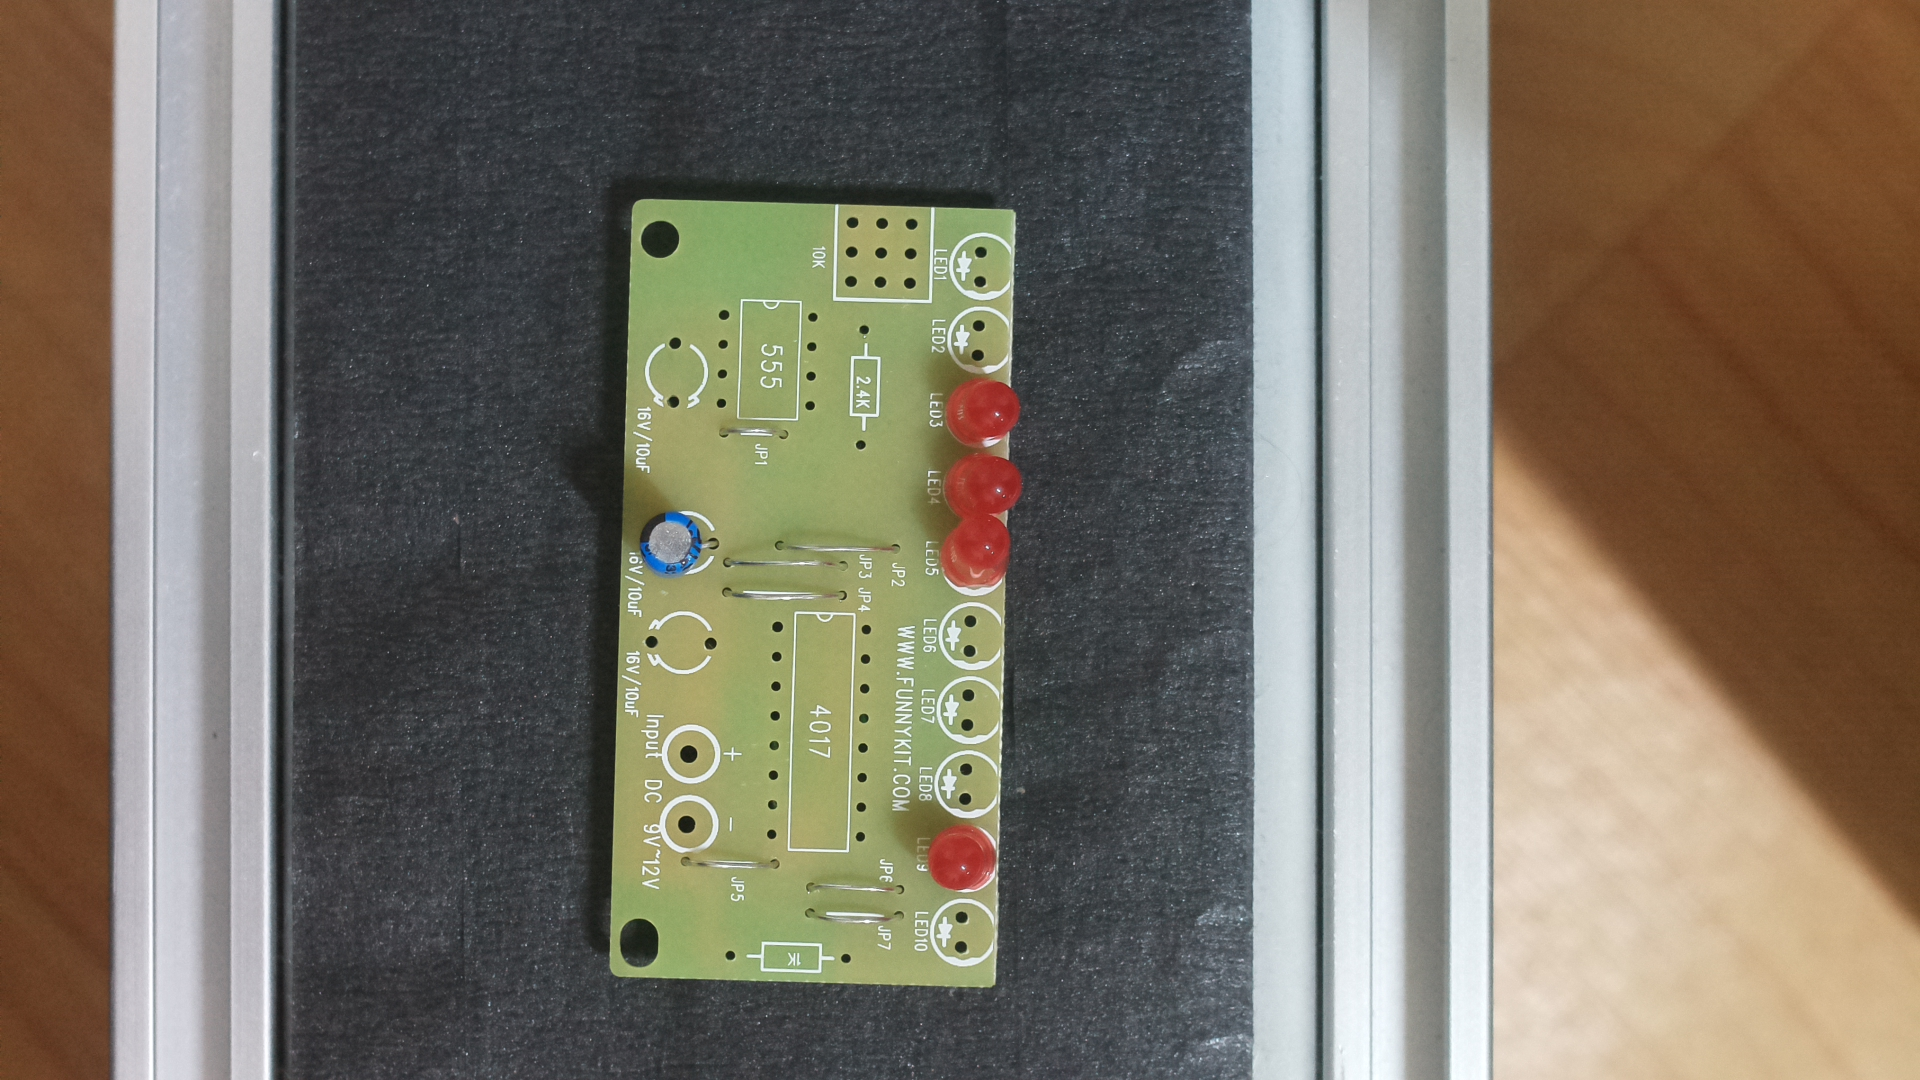B_Missing_part: (597, 172, 1033, 1016)
